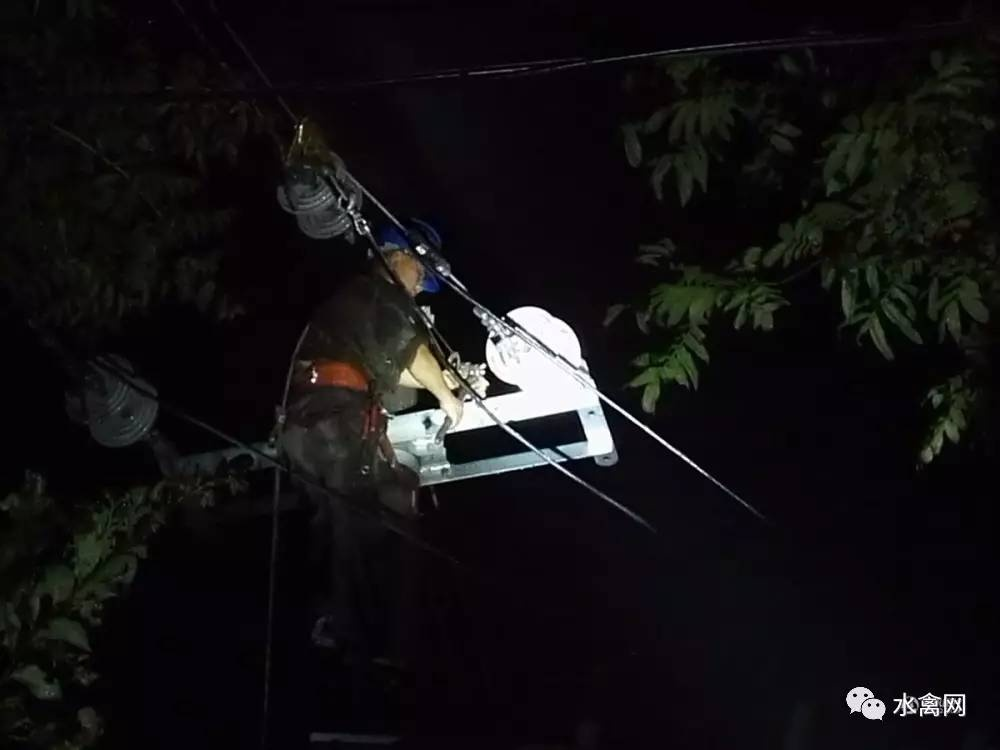blue: (365, 213, 446, 296)
